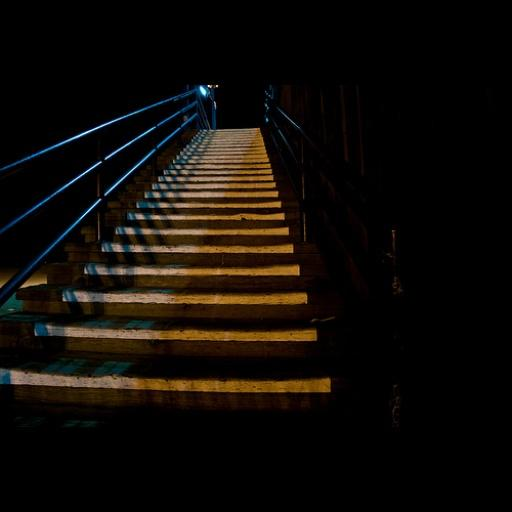stairs: (0, 128, 349, 423)
